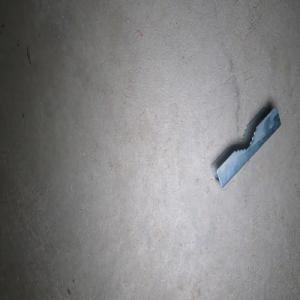ClampPart: (209, 104, 281, 190)
